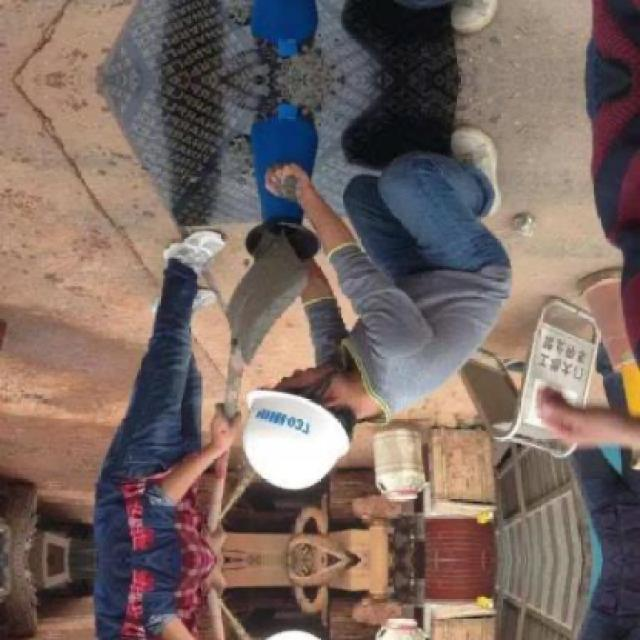con casco: (227, 245, 444, 499)
